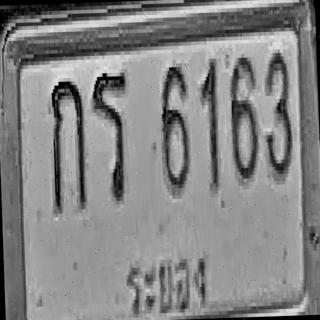A01: (48, 79, 87, 212)
A35: (90, 69, 130, 201)
N01: (198, 57, 220, 192)
N03: (262, 50, 294, 179)
N06: (228, 54, 260, 182), (159, 63, 190, 192)
P53: (122, 240, 213, 320)
